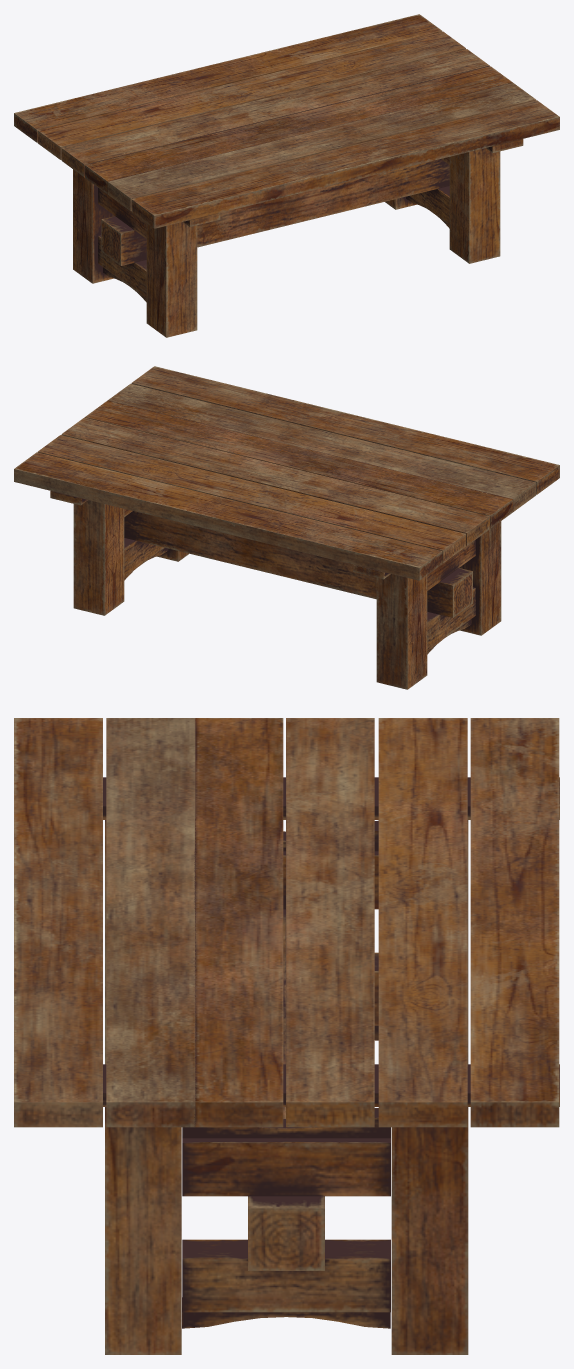
The model's file is tavolo.fbx.
3 views of the same model, one above another, from view 1: azimuth 30°, elevation 25°; view 2: azimuth 150°, elevation 25°; view 3: azimuth 270°, elevation 25° (orthographic). The views are drawn at different scales.
Parts seen in each view (by area): view 1: Object_2; view 2: Object_2; view 3: Object_2.
Part boxes in pixels (x1,y1,x2,y2): Object_2: [14, 14, 559, 337]; Object_2: [14, 366, 559, 689]; Object_2: [14, 718, 559, 1354].
Bounding box in the file's own units: 247 × 86.01 × 148.
